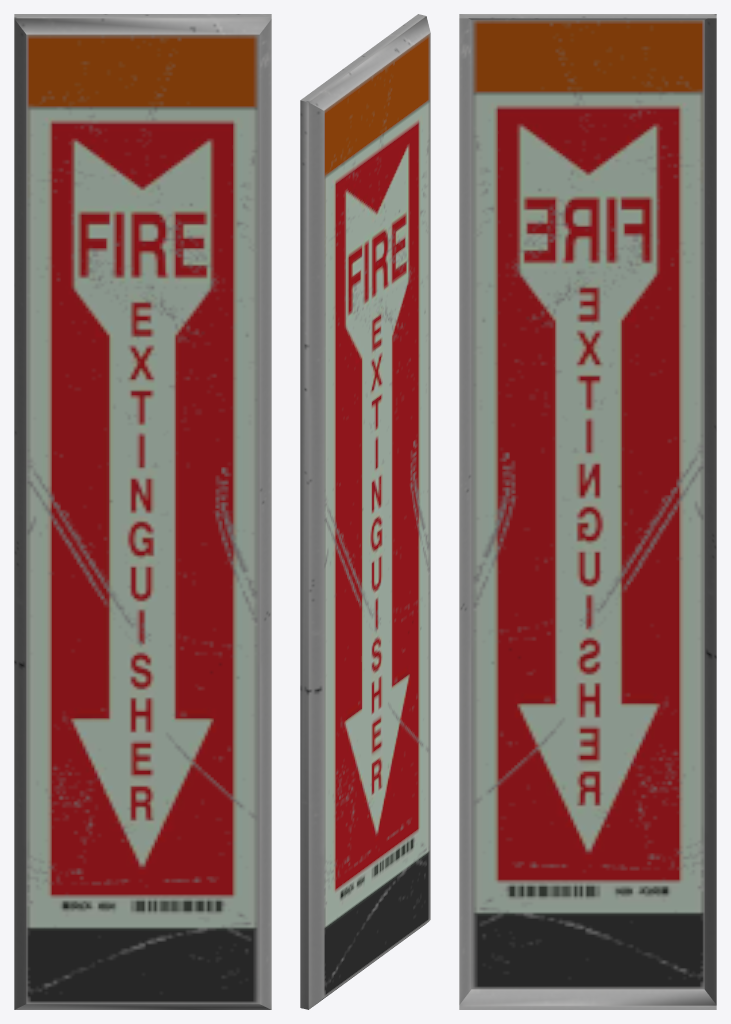
Rendered from Prop_FireExtinguisher_3.fbx.
3 views of the same model, side by side, from view 1: azimuth 90°, elevation 25°; view 2: azimuth 150°, elevation 25°; view 3: azimuth 270°, elevation 25° (orthographic). The views are drawn at different scales.
Visible parts, largest first — view 1: Prop_FireExtinguisher_3; view 2: Prop_FireExtinguisher_3; view 3: Prop_FireExtinguisher_3.
Part boxes in pixels (x1=…): Prop_FireExtinguisher_3: x1=14, y1=14, x2=271, y2=1009; Prop_FireExtinguisher_3: x1=300, y1=14, x2=430, y2=1009; Prop_FireExtinguisher_3: x1=459, y1=14, x2=716, y2=1009.
Size of the model in its own units: 0.8077 by 38.74 by 9.12.
